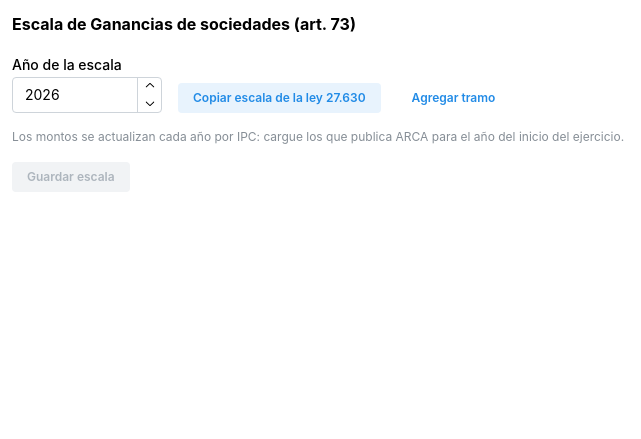
Test: DJ de Ganancias de sociedades (web, E46) › escala: copiar la de la ley 27.630 llena los tres tramos
The width and height of the screenshot is (641, 439).
Click the button "Copiar escala de la ley 27.630". click: coordinates (279, 98)
box: [178,83,381,113]
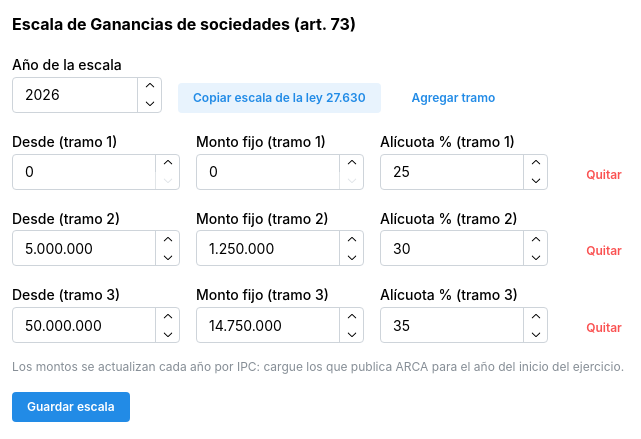
Expected: the number of fields labelled "Desde (tramo 1)" is 3, [12,154,180,190]; [12,230,180,266]; [12,307,180,343]
Expected: the field labelled "Monto fijo (tramo 3)" holds "14.750.000", [196,307,364,343]
